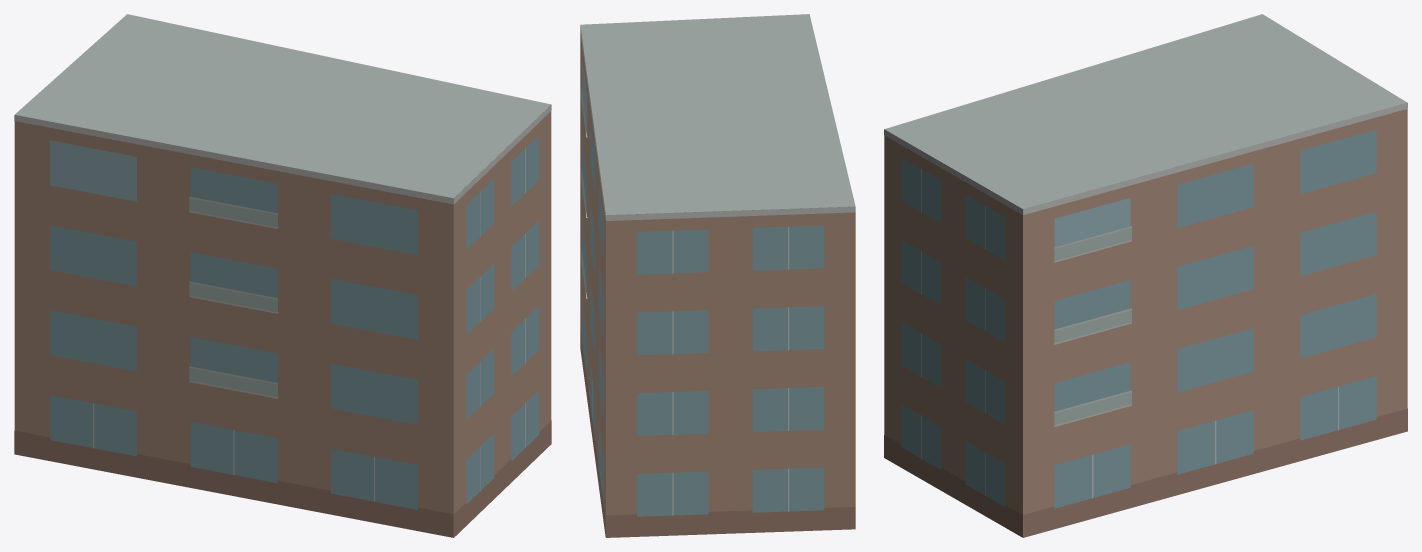
The model's file is survey-upis-32943763.glb.
The picture shows the model from 3 angles, left to right: view 1: azimuth 30°, elevation 25°; view 2: azimuth 150°, elevation 25°; view 3: azimuth 270°, elevation 25°; orthographic projection. The views are drawn at different scales.
Visible parts, largest first — view 1: survey-upis-32943763.tmp; view 2: survey-upis-32943763.tmp; view 3: survey-upis-32943763.tmp.
Part boxes in pixels (<box>): survey-upis-32943763.tmp: <box>14,14,551,537</box>; survey-upis-32943763.tmp: <box>580,14,855,537</box>; survey-upis-32943763.tmp: <box>884,14,1407,537</box>.
Size of the model in its own units: 16.98 by 13.32 by 19.25.
